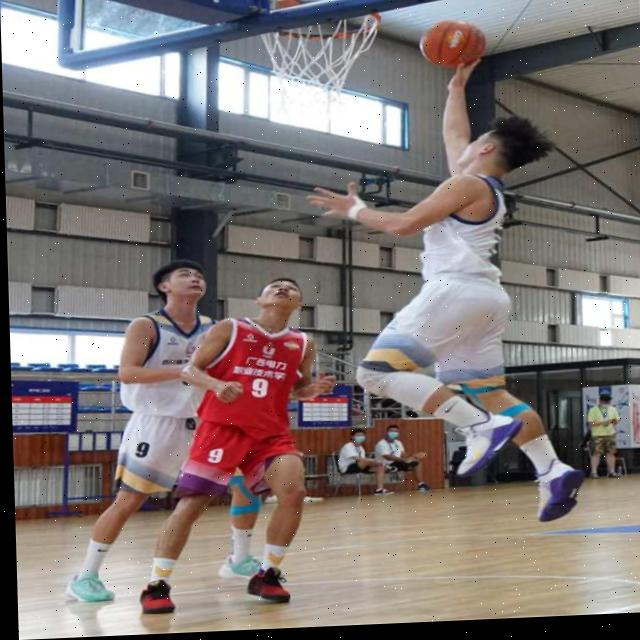basketball: (419, 18, 484, 68)
hoop: (257, 9, 388, 112)
